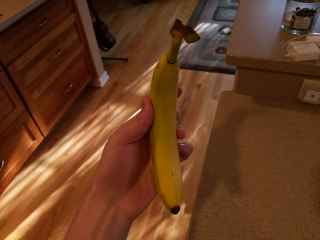banana: (146, 17, 202, 218)
